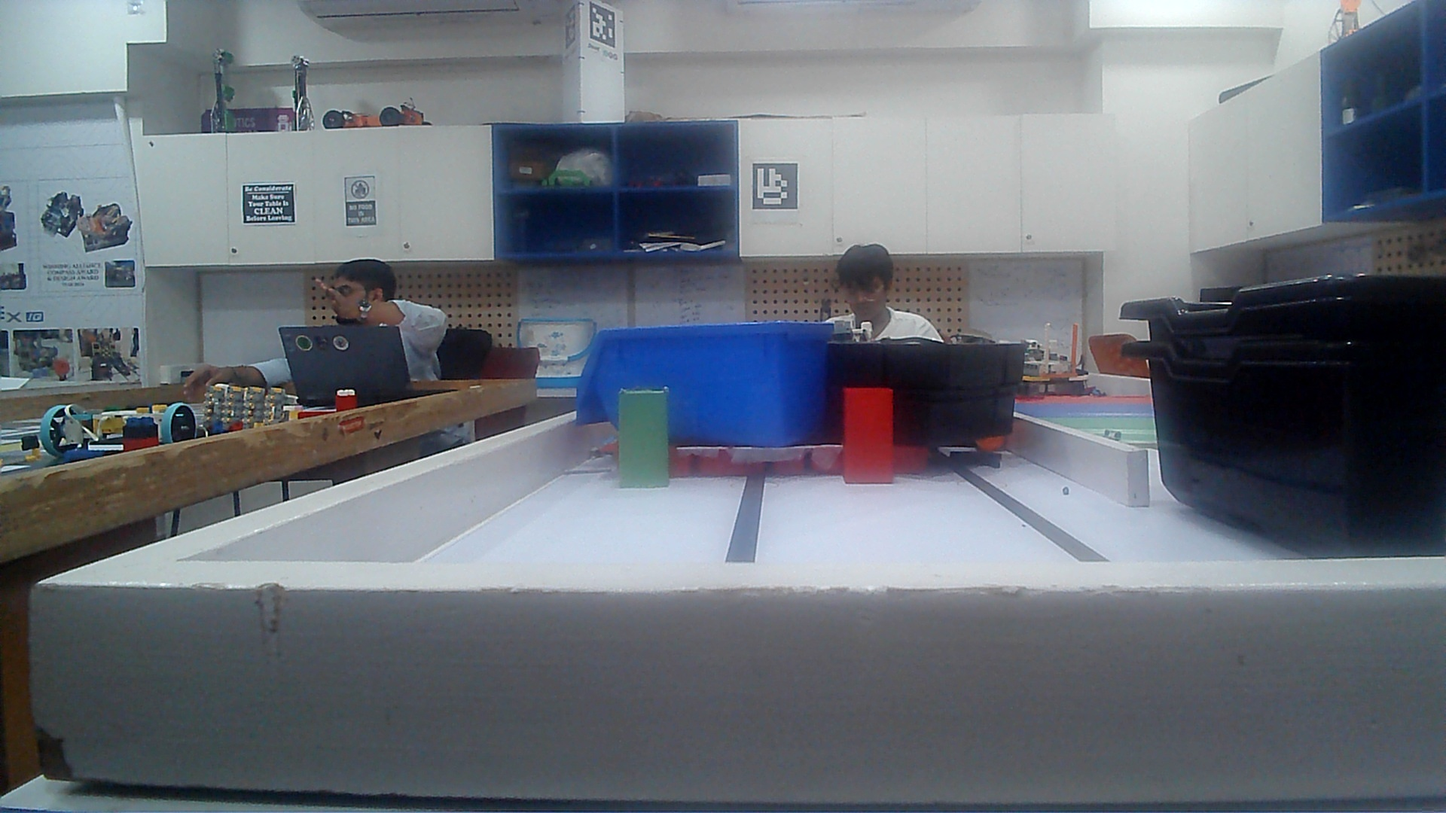red: (842, 386, 893, 486)
